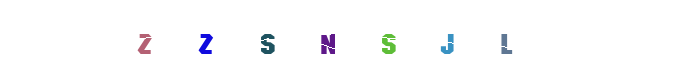J: (348, 0, 428, 80)
L: (404, 0, 484, 80)
N: (288, 0, 368, 80)
S: (227, 0, 307, 80), (308, 0, 388, 80)
Z: (134, 0, 214, 80), (165, 0, 245, 80)
